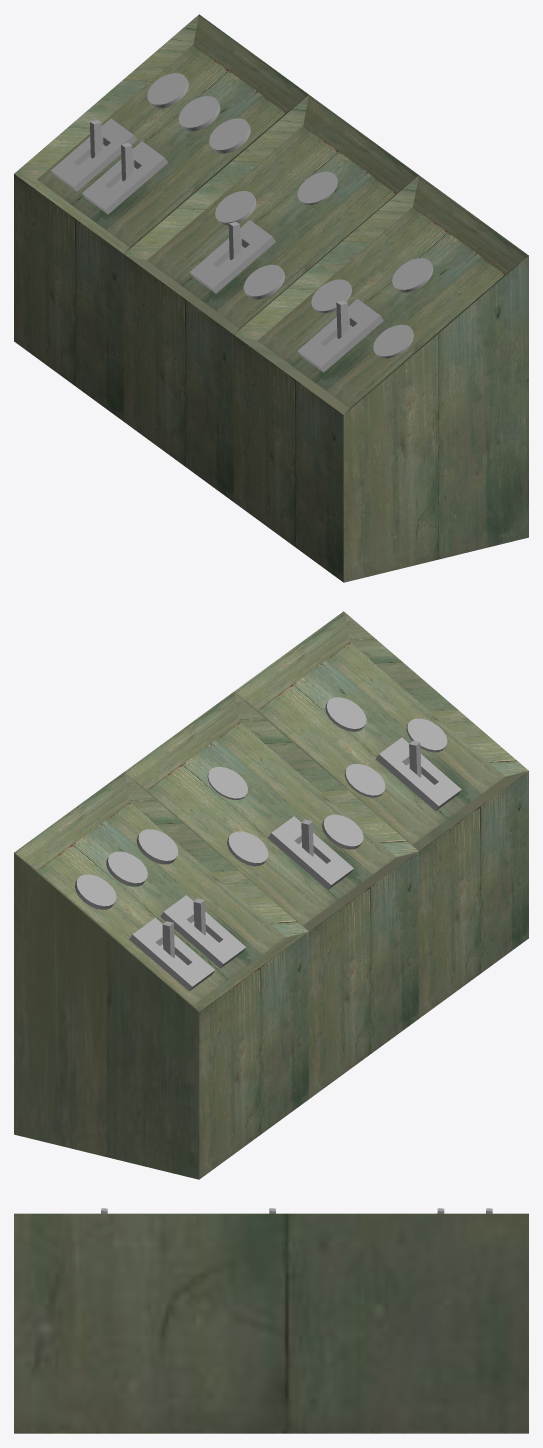
The model's file is telecomunicacoes.fbx.
3 renders of one model, top to bottom at view 1: azimuth 30°, elevation 25°; view 2: azimuth 150°, elevation 25°; view 3: azimuth 270°, elevation 25°, orthographic. The views are drawn at different scales.
Visible parts, largest first — view 1: pCube193, pCube196, pCube194, pCube198, pCube200, pCylinder14, pCylinder21, pCylinder13, pCylinder15, pCylinder19, pCylinder17, pCylinder18 (+2 smaller); view 2: pCube193, pCube194, pCube196, pCube200, pCube198, pCylinder21, pCylinder13, pCylinder14, pCylinder15, pCylinder17, pCylinder19, pCylinder20 (+2 smaller); view 3: pCube193.
Part boxes in pixels (bbox=[...]): pCube193: bbox=[14, 14, 528, 582]; pCube196: bbox=[190, 220, 275, 293]; pCube194: bbox=[297, 299, 383, 372]; pCube198: bbox=[82, 141, 167, 214]; pCube200: bbox=[51, 118, 136, 191]; pCylinder14: bbox=[209, 118, 250, 153]; pCylinder21: bbox=[178, 96, 220, 131]; pCylinder13: bbox=[147, 73, 188, 108]; pCylinder15: bbox=[243, 264, 285, 299]; pCylinder19: bbox=[392, 258, 433, 292]; pCylinder17: bbox=[215, 191, 256, 225]; pCylinder18: bbox=[373, 324, 413, 358]; pCube193: bbox=[14, 611, 528, 1179]; pCube194: bbox=[375, 737, 461, 810]; pCube196: bbox=[268, 816, 353, 889]; pCube200: bbox=[129, 918, 214, 991]; pCube198: bbox=[160, 895, 246, 968]; pCylinder21: bbox=[106, 851, 147, 886]; pCylinder13: bbox=[75, 874, 116, 909]; pCylinder14: bbox=[136, 829, 178, 864]; pCylinder15: bbox=[322, 814, 363, 849]; pCylinder17: bbox=[227, 831, 268, 866]; pCylinder19: bbox=[325, 697, 366, 731]; pCylinder20: bbox=[344, 763, 385, 797]; pCube193: bbox=[14, 1213, 528, 1433].
Size of the model in its own units: 72.87 by 106 by 225.
